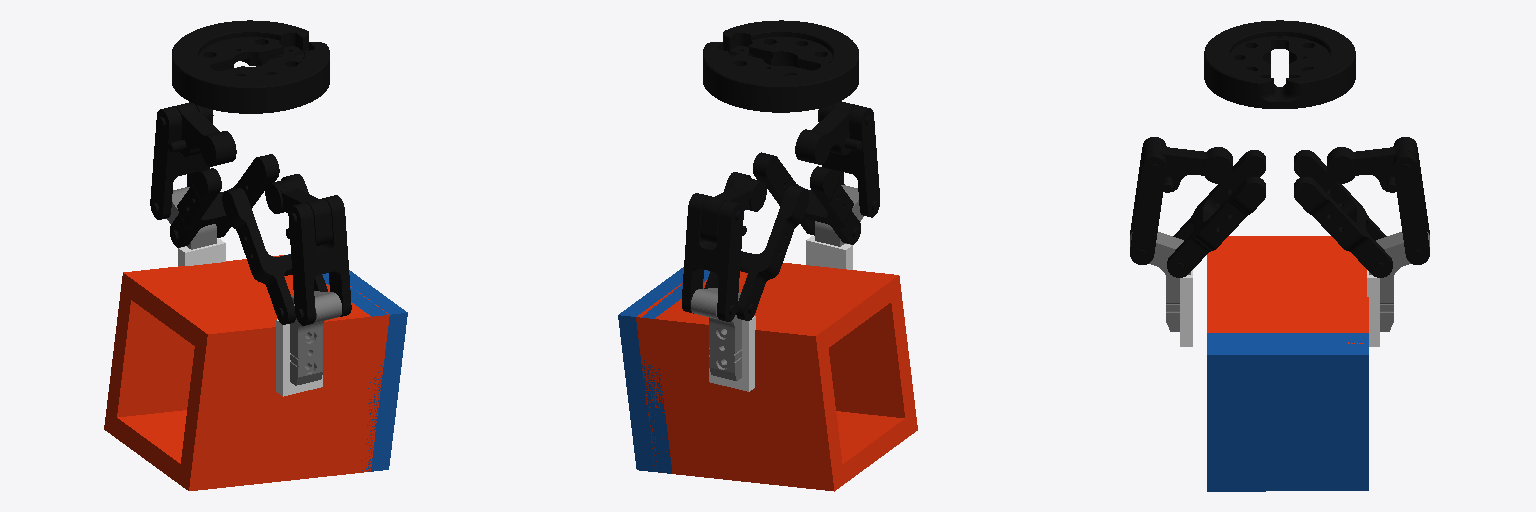
URDF robot description (panda):
<?xml version="1.0" ?>
<!-- =================================================================================== -->
<!-- |    This document was autogenerated by xacro from panda_arm_hand.urdf.xacro      | -->
<!-- |    EDITING THIS FILE BY HAND IS NOT RECOMMENDED                                 | -->
<!-- =================================================================================== -->
<robot name="panda" xmlns:xacro="http://www.ros.org/wiki/xacro">
  <link name="base_link">
    <visual>
      <geometry>
        <mesh filename="/franka/visual/link0.dae"/>
      </geometry>
      <material name="panda_white"/>
    </visual>
    <collision>
      <geometry>
        <mesh filename="/franka/visual/link0.dae"/>
      </geometry>
      <material name="panda_white"/>
    </collision>

    <inertial>
      <mass value="0.0"/>
      <origin xyz="0.0 0.0 0.0"/>
      <inertia ixx="0.000380" ixy="0.000000" ixz="0.000000" iyx="0.000000" iyy="0.001110" iyz="0.000000" izx="0.000000" izy="0.000000" izz="0.001171"/>
    </inertial>

  </link>

  <link name="panda_link1">
    <visual>
      <geometry>
        <mesh filename="/franka/visual/link1.dae"/>
      </geometry>
      <material name="panda_white"/>
    </visual>
    <collision>
      <geometry>
        <mesh filename="/franka/visual/link1.dae"/>
      </geometry>
      <material name="panda_white"/>
    </collision>
  </link>
  <joint name="panda_joint1" type="revolute">
    <safety_controller k_position="100.0" k_velocity="40.0" soft_lower_limit="-2.8973" soft_upper_limit="2.8973"/>
    <origin rpy="0 0 0" xyz="0 0 0.333"/>
    <parent link="base_link"/>
    <child link="panda_link1"/>
    <axis xyz="0 0 1"/>
    <limit effort="87" lower="-2.9671" upper="2.9671" velocity="2.1750"/>
  </joint>
  <link name="panda_link2">
    <visual>
      <geometry>
        <mesh filename="/franka/visual/link2.dae"/>
      </geometry>
      <material name="panda_white"/>
    </visual>
    <collision>
      <geometry>
        <mesh filename="/franka/visual/link2.dae"/>
      </geometry>
      <material name="panda_white"/>
    </collision>
  </link>
  <joint name="panda_joint2" type="revolute">
    <safety_controller k_position="100.0" k_velocity="40.0" soft_lower_limit="-1.7628" soft_upper_limit="1.7628"/>
    <origin rpy="-1.57079632679 0 0" xyz="0 0 0"/>
    <parent link="panda_link1"/>
    <child link="panda_link2"/>
    <axis xyz="0 0 1"/>
    <limit effort="87" lower="-1.8326" upper="1.8326" velocity="2.1750"/>
  </joint>
  <link name="panda_link3">
    <visual>
      <geometry>
        <mesh filename="/franka/visual/link3.dae"/>
      </geometry>
      <material name="panda_white"/>
    </visual>
    <collision>
      <geometry>
        <mesh filename="/franka/visual/link3.dae"/>
      </geometry>
      <material name="panda_white"/>
    </collision>
  </link>
  <joint name="panda_joint3" type="revolute">
    <safety_controller k_position="100.0" k_velocity="40.0" soft_lower_limit="-2.8973" soft_upper_limit="2.8973"/>
    <origin rpy="1.57079632679 0 0" xyz="0 -0.316 0"/>
    <parent link="panda_link2"/>
    <child link="panda_link3"/>
    <axis xyz="0 0 1"/>
    <limit effort="87" lower="-2.9671" upper="2.9671" velocity="2.1750"/>
  </joint>
  <link name="panda_link4">
    <visual>
      <geometry>
        <mesh filename="/franka/visual/link4.dae"/>
      </geometry>
      <material name="panda_white"/>
    </visual>
    <collision>
      <geometry>
        <mesh filename="/franka/visual/link4.dae"/>
      </geometry>
      <material name="panda_white"/>
    </collision>
  </link>
  <joint name="panda_joint4" type="revolute">
    <safety_controller k_position="100.0" k_velocity="40.0" soft_lower_limit="-3.0718" soft_upper_limit="-0.0698"/>
    <origin rpy="1.57079632679 0 0" xyz="0.0825 0 0"/>
    <parent link="panda_link3"/>
    <child link="panda_link4"/>
    <axis xyz="0 0 1"/>
    <limit effort="87" lower="-3.1416" upper="0.0" velocity="2.1750"/>
  </joint>
  <link name="panda_link5">
    <visual>
      <geometry>
        <mesh filename="/franka/visual/link5.dae"/>
      </geometry>
      <material name="panda_white"/>
    </visual>
    <collision>
      <geometry>
        <mesh filename="/franka/visual/link5.dae"/>
      </geometry>
      <material name="panda_white"/>
    </collision>
  </link>
  <joint name="panda_joint5" type="revolute">
    <safety_controller k_position="100.0" k_velocity="40.0" soft_lower_limit="-2.8973" soft_upper_limit="2.8973"/>
    <origin rpy="-1.57079632679 0 0" xyz="-0.0825 0.384 0"/>
    <parent link="panda_link4"/>
    <child link="panda_link5"/>
    <axis xyz="0 0 1"/>
    <limit effort="12" lower="-2.9671" upper="2.9671" velocity="2.6100"/>
  </joint>
  <link name="panda_link6">
    <visual>
      <geometry>
        <mesh filename="/franka/visual/link6.dae"/>
      </geometry>
#      <material name="panda_white"/>
    </visual>
    <collision>
      <geometry>
        <mesh filename="/franka/visual/link6.dae"/>
      </geometry>
      <material name="panda_white"/>
    </collision>
  </link>
  <joint name="panda_joint6" type="revolute">
    <safety_controller k_position="100.0" k_velocity="40.0" soft_lower_limit="-0.0175" soft_upper_limit="3.7525"/>
    <origin rpy="1.57079632679 0 0" xyz="0 0 0"/>
    <parent link="panda_link5"/>
    <child link="panda_link6"/>
    <axis xyz="0 0 1"/>
    <limit effort="12" lower="-0.0873" upper="3.8223" velocity="2.6100"/>
  </joint>
  <link name="panda_link7">
    <visual>
      <geometry>
        <mesh filename="/franka/visual/link7.dae"/>
      </geometry>
      <material name="panda_white"/>
    </visual>
    <collision>
      <geometry>
        <mesh filename="/franka/visual/link7.dae"/>
      </geometry>
      <material name="panda_white"/>
    </collision>
  </link>
  <joint name="panda_joint7" type="revolute">
    <safety_controller k_position="100.0" k_velocity="40.0" soft_lower_limit="-2.8973" soft_upper_limit="2.8973"/>
    <origin rpy="1.57079632679 0 0" xyz="0.088 0 0"/>
    <parent link="panda_link6"/>
    <child link="panda_link7"/>
    <axis xyz="0 0 1"/>
    <limit effort="12" lower="-2.9671" upper="2.9671" velocity="2.6100"/>
  </joint>
  <link name="panda_link8"/>

  <joint name="panda_joint8" type="fixed">
    <origin rpy="0 0 0" xyz="0 0 0.107"/>
    <parent link="panda_link7"/>
    <child link="panda_link8"/>
    <axis xyz="0 0 0"/>
  </joint>

  <joint name="panda_robotiq_coupling" type="fixed">
    <origin rpy="0 0 0" xyz="0 0 0"/>
    <parent link="panda_link8"/>
    <child link="robotiq_85_coupling_link"/>
    <axis xyz="0 0 0"/>
  </joint>

  <link name="robotiq_85_coupling_link">
    <visual>
      <geometry>
        <mesh filename="robotiq_2f_85/visual/robotiq_gripper_couplingvn.obj"/>
      </geometry>
      <material name="dark black"/>
    </visual>
    <collision>
      <geometry>
        <mesh filename="robotiq_2f_85/visual/robotiq_gripper_couplingvn.obj"/>
      </geometry>
    </collision>
  </link>

  <joint name="robotiq_85_base_joint" type="fixed">
    <parent link="robotiq_85_coupling_link"/>
    <child link="robotiq_85_base_link"/>
    <origin rpy="0 0 0" xyz="0 0 0"/>
  </joint>

  <link name="robotiq_85_base_link">
    <visual>
      <geometry>
        <mesh filename="robotiq_2f_85/visual/robotiq_arg2f_85_base_linkvn.obj"/>
      </geometry>
      <material name="Black"/>
    </visual>
    <collision>
      <geometry>
        <mesh filename="robotiq_2f_85/visual/robotiq_arg2f_85_base_linkvn.obj"/>
      </geometry>
    </collision>
      <inertial>
        <origin xyz="8.625E-08 -4.6583E-06 0.03145" rpy="0 0 0" />
        <mass value="0.22652" />
        <inertia ixx="0.00020005" ixy="-4.2442E-10" ixz="-2.9069E-10" iyy="0.00017832" iyz="-3.4402E-08" izz="0.00013478" />
      </inertial>
  </link>

  <joint name="robotiq_85_left_knuckle_joint" type="revolute">
    <parent link="robotiq_85_base_link"/>
    <child link="robotiq_85_left_knuckle_link"/>
    <axis xyz="1 0 0"/>
    <origin rpy="0 0.0 3.1415926" xyz="0 -0.0306011 0.054904"/>
    <limit lower="0" upper="0.81" velocity="100.0"/>
  </joint>
  <joint name="robotiq_85_right_knuckle_joint" type="revolute">
    <parent link="robotiq_85_base_link"/>
    <child link="robotiq_85_right_knuckle_link"/>
    <axis xyz="1 0 0"/>
    <origin rpy="0.0 0.0 0" xyz="0 0.0306011 0.054904"/>
    <limit lower="0" upper="0.81" velocity="100.0"/>
  </joint>

  <link name="robotiq_85_left_knuckle_link">
    <visual>
      <geometry>
        <mesh filename="robotiq_2f_85/visual/robotiq_arg2f_85_outer_knucklevn.obj"/>
      </geometry>
    <material name="Black"/>
    </visual>
    <collision>
      <geometry>
        <mesh filename="robotiq_2f_85/visual/robotiq_arg2f_85_outer_knucklevn.obj"/>
      </geometry>
    </collision>
    <!--<inertial>
        <origin xyz="-0.000200000000003065 0.0199435877845359 0.0292245259211331" rpy="0 0 0" />
        <mass value="0.00853198276973456" />
        <inertia ixx="2.89328108496468E-06" ixy="-1.57935047237397E-19" ixz="-1.93980378593255E-19" iyy="1.86719750325683E-06" iyz="-1.21858577871576E-06" izz="1.21905238907251E-06" />
    </inertial>-->
  </link>

  <link name="robotiq_85_right_knuckle_link">
    <visual>
      <geometry>
        <mesh filename="robotiq_2f_85/visual/robotiq_arg2f_85_outer_knucklevn.obj"/>
      </geometry>
      <material name="Black"/>
    </visual>
    <collision>
      <geometry>
        <mesh filename="robotiq_2f_85/visual/robotiq_arg2f_85_outer_knucklevn.obj"/>
      </geometry>
    </collision>
    <!--<inertial>
        <origin xyz="-0.000200000000003065 0.0199435877845359 0.0292245259211331" rpy="0 0 0" />
        <mass value="0.00853198276973456" />
        <inertia ixx="2.89328108496468E-06" ixy="-1.57935047237397E-19" ixz="-1.93980378593255E-19" iyy="1.86719750325683E-06" iyz="-1.21858577871576E-06" izz="1.21905238907251E-06" />
    </inertial>-->
  </link>


  <joint name="robotiq_85_left_finger_joint" type="fixed">
    <parent link="robotiq_85_left_knuckle_link"/>
    <child link="robotiq_85_left_finger_link"/>
    <origin rpy="0 0 0" xyz="0 0.0315 -0.0041"/>
    <limit lower="-3.14" upper="3.14" velocity="100.0"/>
  </joint>
  <joint name="robotiq_85_right_finger_joint" type="fixed">
    <parent link="robotiq_85_right_knuckle_link"/>
    <child link="robotiq_85_right_finger_link"/>
    <origin rpy="0 0 0" xyz="0 0.0315 -0.0041"/>
    <limit lower="-3.14" upper="3.14" velocity="100.0"/>
  </joint>

  <link name="robotiq_85_left_finger_link">
    <visual>
      <geometry>
        <mesh filename="robotiq_2f_85/visual/robotiq_arg2f_85_outer_fingervn.obj"/>
      </geometry>
      <material name="Black"/>
    </visual>
    <collision>
      <geometry>
        <mesh filename="robotiq_2f_85/visual/robotiq_arg2f_85_outer_fingervn.obj"/>
      </geometry>
    </collision>
    <!--<inertial>
      <mass value="0.027309"/>
      <origin xyz="0.0 0.0 0.0"/>
      <inertia ixx="0.000003" ixy="-0.000002" ixz="0.000000" iyx="-0.000002" iyy="0.000021" iyz="0.000000" izx="0.000000" izy="0.000000" izz="0.000020"/>
    </inertial>-->
  </link>
  <link name="robotiq_85_right_finger_link">
    <visual>
      <geometry>
        <mesh filename="robotiq_2f_85/visual/robotiq_arg2f_85_outer_fingervn.obj"/>
      </geometry>
      <material name="Black"/>
    </visual>
    <collision>
      <geometry>
        <mesh filename="robotiq_2f_85/visual/robotiq_arg2f_85_outer_fingervn.obj"/>
      </geometry>
    </collision>
    <!--<inertial>
      <mass value="0.027309"/>
      <origin xyz="0.0 0.0 0.0"/>
      <inertia ixx="0.000003" ixy="-0.000002" ixz="0.000000" iyx="-0.000002" iyy="0.000021" iyz="0.000000" izx="0.000000" izy="0.000000" izz="0.000020"/>
    </inertial>-->
  </link>

<joint name="robotiq_85_left_inner_knuckle_joint" type="revolute">
    <parent link="robotiq_85_base_link"/>
    <child link="robotiq_85_left_inner_knuckle_link"/>
    <axis xyz="1 0 0"/>
    <origin rpy="0 0.0 0" xyz="0 0.0127 0.06142"/>
    <limit lower="0" upper="0.8757" velocity="100.0"/>
  </joint>
  <joint name="robotiq_85_right_inner_knuckle_joint" type="revolute">
    <parent link="robotiq_85_base_link"/>
    <child link="robotiq_85_right_inner_knuckle_link"/>
    <axis xyz="1 0 0"/>
    <origin rpy="0 0 3.1415926" xyz="0 -0.0127 0.06142"/>
    <limit lower="0" upper="0.8757" velocity="100.0"/>
  </joint>
  <link name="robotiq_85_left_inner_knuckle_link">
    <visual>
      <geometry>
        <mesh filename="robotiq_2f_85/visual/robotiq_arg2f_85_inner_knucklevn.obj"/>
      </geometry>
      <material name="Black"/>
    </visual>
    <collision>
      <geometry>
        <mesh filename="robotiq_2f_85/visual/robotiq_arg2f_85_inner_knucklevn.obj"/>
      </geometry>
    </collision>
    <!--<inertial>
      <mass value="0.029951"/>
      <origin xyz="0.0 0.0 0.0"/>
      <inertia ixx="0.000039" ixy="0.000000" ixz="0.000000" iyx="0.000000" iyy="0.000005" iyz="0.000000" izx="0.000000" izy="0.000000" izz="0.000035"/>
    </inertial>-->
  </link>
  <link name="robotiq_85_right_inner_knuckle_link">
    <visual>
     <geometry>
        <mesh filename="robotiq_2f_85/visual/robotiq_arg2f_85_inner_knucklevn.obj"/>
      </geometry>
      <material name="Black"/>
    </visual>
    <collision>
     <geometry>
        <mesh filename="robotiq_2f_85/visual/robotiq_arg2f_85_inner_knucklevn.obj"/>
      </geometry>
    </collision>
    <!--<inertial>
      <mass value="0.029951"/>
      <origin xyz="0.0 0.0 0.0"/>
      <inertia ixx="0.000039" ixy="0.000000" ixz="0.000000" iyx="0.000000" iyy="0.000005" iyz="0.000000" izx="0.000000" izy="0.000000" izz="0.000035"/>
    </inertial>-->
  </link>

  <joint name="robotiq_85_left_finger_tip_joint" type="revolute">
    <parent link="robotiq_85_left_finger_link"/>
    <child link="robotiq_85_left_finger_tip_link"/>
    <axis xyz="1 0 0"/>
    <origin rpy="0.0 0.0 0.0" xyz="0 0.0061 0.0471"/>
    <limit lower="0" upper="-0.8" velocity="100.0"/>
  </joint>
  <joint name="robotiq_85_right_finger_tip_joint" type="revolute">
    <parent link="robotiq_85_right_finger_link"/>
    <child link="robotiq_85_right_finger_tip_link"/>
    <axis xyz="1 0 0"/>
    <origin rpy="0.0 0.0 0.0" xyz="0 0.0061 0.0471"/>
    <limit lower="0" upper="-0.8" velocity="100.0"/>
  </joint>

  <link name="robotiq_85_left_finger_tip_link">
    <contact>
      <lateral_friction value="2.0"/>
      <spinning_friction value="0.1"/>
    </contact>
    <visual>
      <geometry>
        <mesh filename="robotiq_2f_85/visual/robotiq_arg2f_85_inner_fingervn.obj"/>
      </geometry>
      <material name="Gray"/>
    </visual>
    <collision>
      <geometry>
        <mesh filename="robotiq_2f_85/visual/robotiq_arg2f_85_inner_fingervn.obj"/>
      </geometry>
    </collision>
    <!--<inertial>
      <mass value="0.019555"/>
      <origin xyz="0.0 0.0 0.0"/>
      <inertia ixx="0.000002" ixy="0.000000" ixz="0.000000" iyx="0.000000" iyy="0.000005" iyz="0.000000" izx="0.000000" izy="0.000000" izz="0.000006"/>
    </inertial> -->
  </link>
  <link name="robotiq_85_right_finger_tip_link">
    <contact>
      <lateral_friction value="2.0"/>
      <spinning_friction value="0.1"/>
    </contact>
    <visual>
      <geometry>
        <mesh filename="robotiq_2f_85/visual/robotiq_arg2f_85_inner_fingervn.obj"/>
      </geometry>
      <material name="Gray"/>
    </visual>
    <collision>
      <geometry>
        <mesh filename="robotiq_2f_85/visual/robotiq_arg2f_85_inner_fingervn.obj"/>
      </geometry>
    </collision>
    <!--<inertial>
      <mass value="0.019555"/>
      <origin xyz="0.0 0.0 0.0"/>
      <inertia ixx="0.000002" ixy="0.000000" ixz="0.000000" iyx="0.000000" iyy="0.000005" iyz="0.000000" izx="0.000000" izy="0.000000" izz="0.000006"/>
    </inertial>-->
  </link>

    <joint name="robotiq_2f_85_left_inner_finger_pad_joint" type="fixed">
      <origin xyz="0 -0.0220203446692936 0.03242" rpy="0 0 0"/>
      <parent link="robotiq_85_left_finger_tip_link" />
      <child link="robotiq_2f_85_left_inner_finger_pad" />
      <axis xyz="0 0 1" />
    </joint>

    <joint name="robotiq_2f_85_right_inner_finger_pad_joint" type="fixed">
      <origin xyz="0 -0.0220203446692936 0.03242" rpy="0 0 0"/>
      <parent link="robotiq_85_right_finger_tip_link" />
      <child link="robotiq_2f_85_right_inner_finger_pad" />
      <axis xyz="0 0 1" />
    </joint>

    <link name="robotiq_2f_85_left_inner_finger_pad">
      <visual>
        <origin xyz="0 0 0" rpy="0 0 0" />
        <geometry>
          <box size="0.022 0.00635 0.0375"/>
        </geometry>
        <material name="">
          <color rgba="0.9 0.9 0.9 1" />
        </material>
      </visual>
      <collision>
        <origin xyz="0 0 0" rpy="0 0 0" />
        <geometry>
           <box size="0.022 0.00635 0.0375"/>
        </geometry>
        <material name="">
          <color rgba="0.9 0.9 0.9 1" />
        </material>
      </collision>
    </link>


    <link name="robotiq_2f_85_right_inner_finger_pad">
      <visual>
        <origin xyz="0 0 0" rpy="0 0 0" />
        <geometry>
          <box size="0.022 0.00635 0.0375"/>
        </geometry>
        <material name="">
          <color rgba="0.9 0.9 0.9 1" />
        </material>
      </visual>
      <collision>
        <origin xyz="0 0 0" rpy="0 0 0" />
        <geometry>
           <box size="0.022 0.00635 0.0375"/>
        </geometry>
        <material name="">
          <color rgba="0.9 0.9 0.9 1" />
        </material>
      </collision>
    </link>

  <joint name="peg_in_gripper" type="fixed">
      <origin xyz="0 -0.05 0.03" rpy="-1.7 0 1.57"/>
      <parent link="robotiq_2f_85_right_inner_finger_pad" />
      <child link="handle" />
      <axis xyz="0 0 1" />
    </joint>

  <link name="handle">
    <inertial>
      <origin rpy="0 0 0" xyz="0 0 0"/>
      <mass value="0.001"/>
      <inertia ixx="-4.46E-06" ixy="-4.55E-07" ixz="1.95E-06" iyy="-2.47E-06" iyz="8.51E-08" izz="2.17E-06"/>
    </inertial>
    <visual>
      <origin rpy="0 0 0" xyz="0 0 -0.05"/>
      <geometry>
        <box size=".08 .08 0.02"/>
      </geometry>
      <material name="Blue">
      </material>
    </visual>
    <collision>
      <origin rpy="0 0 0" xyz="0 0 -0.05"/>
      <geometry>
        <box size=".08 .08 0.02"/>
      </geometry>
    </collision>
  </link>

  <link name="left">
    <inertial>
      <origin rpy="0 0 0" xyz="0 0 0"/>
      <mass value="0.001"/>
      <inertia ixx="-4.46E-06" ixy="-4.55E-07" ixz="1.95E-06" iyy="-2.47E-06" iyz="8.51E-08" izz="2.17E-06"/>
    </inertial>
    <visual>
      <origin rpy="0 0 0" xyz="0.035 0.0 0"/>
      <geometry>
        <box size=".01 .08 0.1"/>
      </geometry>
      <material name="Red">
      </material>
    </visual>
    <collision>
      <origin rpy="0 0 0" xyz="0.035 0 0"/>
      <geometry>
        <box size=".01 .08 0.1"/>
      </geometry>
    </collision>
  </link>

  <joint name="left_joint" type="fixed">
    <origin rpy="0 0 0" xyz="0 0 0"/>
    <parent link="handle"/>
    <child link="left"/>
  </joint>

  <link name="right">
    <inertial>
      <origin rpy="0 0 0" xyz="0 0 0"/>
      <mass value="0.001"/>
      <inertia ixx="-4.46E-06" ixy="-4.55E-07" ixz="1.95E-06" iyy="-2.47E-06" iyz="8.51E-08" izz="2.17E-06"/>
    </inertial>
    <visual>
      <origin rpy="0 0 0" xyz="-0.035 0.0 0"/>
      <geometry>
        <box size=".01 .08 0.1"/>
      </geometry>
      <material name="Red">
      </material>
    </visual>
    <collision>
      <origin rpy="0 0 0" xyz="-0.035 0 0"/>
      <geometry>
        <box size=".01 .08 0.1"/>
      </geometry>
    </collision>
  </link>

  <joint name="right_joint" type="fixed">
    <origin rpy="0 0 0" xyz="0 0 0"/>
    <parent link="handle"/>
    <child link="right"/>
  </joint>

  <link name="front">
    <inertial>
      <origin rpy="0 0 0" xyz="0 0 0"/>
      <mass value="0.001"/>
      <inertia ixx="-4.46E-06" ixy="-4.55E-07" ixz="1.95E-06" iyy="-2.47E-06" iyz="8.51E-08" izz="2.17E-06"/>
    </inertial>
    <visual>
      <origin rpy="0 0 0" xyz="0 0.035 0"/>
      <geometry>
        <box size=".08 .01 0.1"/>
      </geometry>
      <material name="Red">
      </material>
    </visual>
    <collision>
      <origin rpy="0 0 0" xyz="0 0.035 0"/>
      <geometry>
        <box size=".08 .01 0.1"/>
      </geometry>
    </collision>
  </link>

  <joint name="front_joint" type="fixed">
    <origin rpy="0 0 0" xyz="0 0 0"/>
    <parent link="handle"/>
    <child link="front"/>
  </joint>

  <link name="rear">
    <inertial>
      <origin rpy="0 0 0" xyz="0 0 0"/>
      <mass value="0.001"/>
      <inertia ixx="-4.46E-06" ixy="-4.55E-07" ixz="1.95E-06" iyy="-2.47E-06" iyz="8.51E-08" izz="2.17E-06"/>
    </inertial>
    <visual>
      <origin rpy="0 0 0" xyz="0 -0.035 0"/>
      <geometry>
        <box size=".08 .01 0.1"/>
      </geometry>
      <material name="Red">
      </material>
    </visual>
    <collision>
      <origin rpy="0 0 0" xyz="0 -0.035 0"/>
      <geometry>
        <box size=".08 .01 0.1"/>
      </geometry>
    </collision>
  </link>

  <joint name="rear_joint" type="fixed">
    <origin rpy="0 0 0" xyz="0 0 0"/>
    <parent link="handle"/>
    <child link="rear"/>
  </joint>


<material name="panda_white">
    <color rgba="1. 1. 1. 1."/>
  </material>
  <material name="dark black">
    <color rgba="0.1 0.1 0.1 1.0"/>
  </material>
  <material name="Black">
    <color rgba="0.1 0.1 0.1 1.0"/>
  </material>
  <material name="Gray">
    <color rgba="0.5 0.5 0.5 1.0"/>
  </material>
  <material name="red">
    <color rgba="1.0 0. 0. 1.0"/>
  </material>
  <material name="blue">
    <color rgba="0. 0. 1. 1.0"/>
  </material>
  <material name="green">
    <color rgba="0. 1. 0. 1.0"/>
  </material>
<material name="Yellow">
  <color rgba="0.949 0.878 0.0392 1.0"/>
</material>
<material name="Blue">
  <color rgba="0.12156 0.3804 0.6745 1.0"/>
</material>
<material name="Red">
  <color rgba="0.9254901 0.243137 0.086274509 1.0"/>
</material>
</robot>

--- Facts derived from the render (not from the file) ---
Views: 3 orthographic renders of the robot side by side, from view 1: azimuth 30°, elevation 25°; view 2: azimuth 150°, elevation 25°; view 3: azimuth 270°, elevation 25°.
Model panda with 26 links and 25 joints (13 revolute, 12 fixed), rooted at base_link, posed every joint at zero.
Links seen in each view (by area): view 1: left, robotiq_85_coupling_link, right, front, robotiq_85_right_finger_link, handle, robotiq_85_right_inner_knuckle_link, robotiq_85_left_inner_knuckle_link, rear, robotiq_85_left_finger_link, robotiq_85_right_finger_tip_link, robotiq_85_left_knuckle_link (+4 smaller); view 2: right, robotiq_85_coupling_link, left, front, handle, robotiq_85_left_finger_link, rear, robotiq_85_left_inner_knuckle_link, robotiq_85_right_inner_knuckle_link, robotiq_85_right_finger_link, robotiq_85_left_finger_tip_link, robotiq_85_right_knuckle_link (+4 smaller); view 3: handle, front, robotiq_85_coupling_link, robotiq_85_left_inner_knuckle_link, robotiq_85_right_inner_knuckle_link, robotiq_85_left_finger_link, robotiq_85_right_finger_link, robotiq_85_left_knuckle_link, robotiq_85_right_knuckle_link, robotiq_85_left_finger_tip_link, robotiq_85_right_finger_tip_link, right (+2 smaller).
Boxes of the visible links, <box> form: left: <box>178,312,389,490</box>; robotiq_85_coupling_link: <box>172,20,329,113</box>; right: <box>104,255,280,436</box>; front: <box>121,255,388,353</box>; robotiq_85_right_finger_link: <box>288,195,351,325</box>; handle: <box>288,254,407,471</box>; robotiq_85_right_inner_knuckle_link: <box>170,154,279,247</box>; robotiq_85_left_inner_knuckle_link: <box>222,174,327,324</box>; rear: <box>105,410,371,490</box>; robotiq_85_left_finger_link: <box>150,104,213,219</box>; robotiq_85_right_finger_tip_link: <box>290,291,341,385</box>; robotiq_85_left_knuckle_link: <box>168,102,236,166</box>; right: <box>636,309,842,490</box>; robotiq_85_coupling_link: <box>703,20,858,112</box>; left: <box>780,263,917,436</box>; front: <box>637,263,901,355</box>; handle: <box>618,267,709,473</box>; robotiq_85_left_finger_link: <box>682,193,743,321</box>; rear: <box>653,411,917,491</box>; robotiq_85_left_inner_knuckle_link: <box>753,152,860,244</box>; robotiq_85_right_inner_knuckle_link: <box>704,172,808,320</box>; robotiq_85_right_finger_link: <box>818,103,879,217</box>; robotiq_85_left_finger_tip_link: <box>691,288,741,380</box>; robotiq_85_right_knuckle_link: <box>795,101,862,164</box>; handle: <box>1207,333,1368,491</box>; front: <box>1207,236,1368,332</box>; robotiq_85_coupling_link: <box>1204,20,1355,108</box>; robotiq_85_left_inner_knuckle_link: <box>1167,150,1265,277</box>; robotiq_85_right_inner_knuckle_link: <box>1294,150,1392,277</box>; robotiq_85_left_finger_link: <box>1393,137,1429,264</box>; robotiq_85_right_finger_link: <box>1130,137,1166,264</box>; robotiq_85_left_knuckle_link: <box>1327,143,1419,192</box>; robotiq_85_right_knuckle_link: <box>1140,143,1232,192</box>; robotiq_85_left_finger_tip_link: <box>1369,232,1429,331</box>; robotiq_85_right_finger_tip_link: <box>1130,232,1190,331</box>; right: <box>1348,251,1368,343</box>.
Bounding box of the posed robot: 0.1195 × 0.1484 × 0.2147 m (x, y, z).
9 mesh visuals loaded from 6 distinct referenced files (5 OBJ); not drawn: 1 (reference not matched to a file when rendering), 8 (reference in a form the renderer does not follow; not among the files counted above).